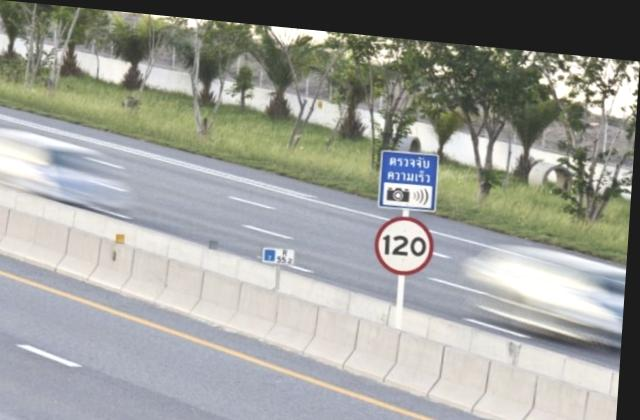limit120: (374, 206, 442, 272)
